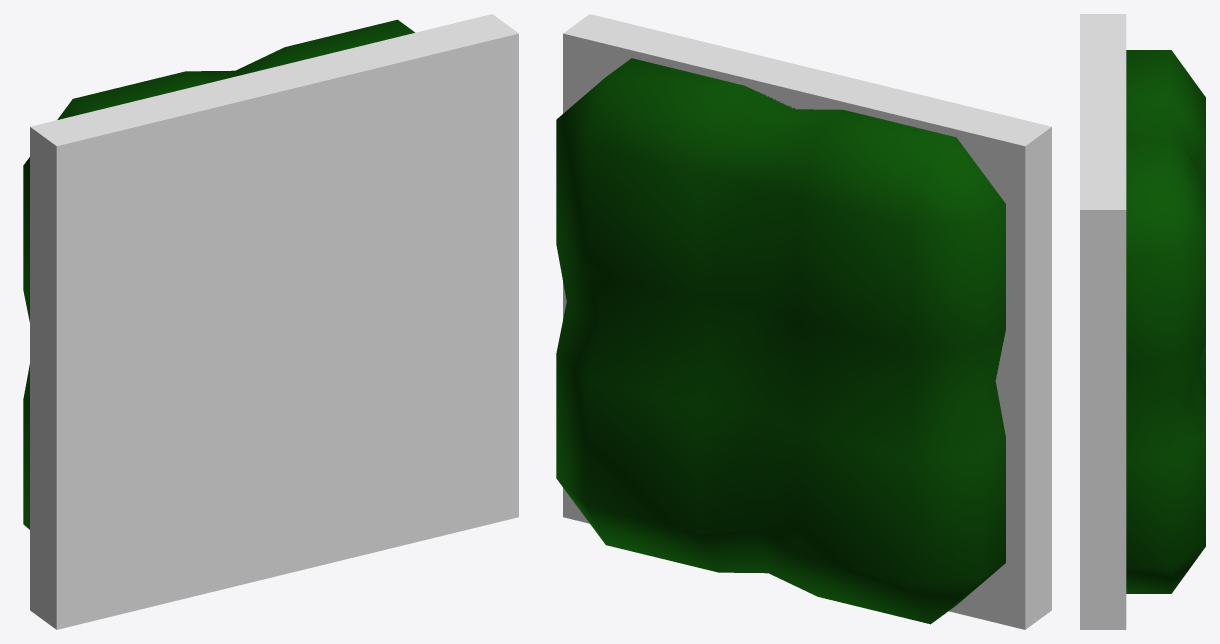
The model's file is Veh_JiangLuoSan_off.FBX.
3 renders of one model, left to right at view 1: azimuth 30°, elevation 25°; view 2: azimuth 150°, elevation 25°; view 3: azimuth 270°, elevation 25°, orthographic. The views are drawn at different scales.
Visible parts, largest first — view 1: Box002; view 2: Box002; view 3: Box002.
Part boxes in pixels (left/top/right/bottom): Box002: left=23, top=14, right=518, bottom=629; Box002: left=556, top=14, right=1051, bottom=629; Box002: left=1080, top=14, right=1205, bottom=629.
Bounding box in the file's own units: 1 × 1 × 0.2714.
